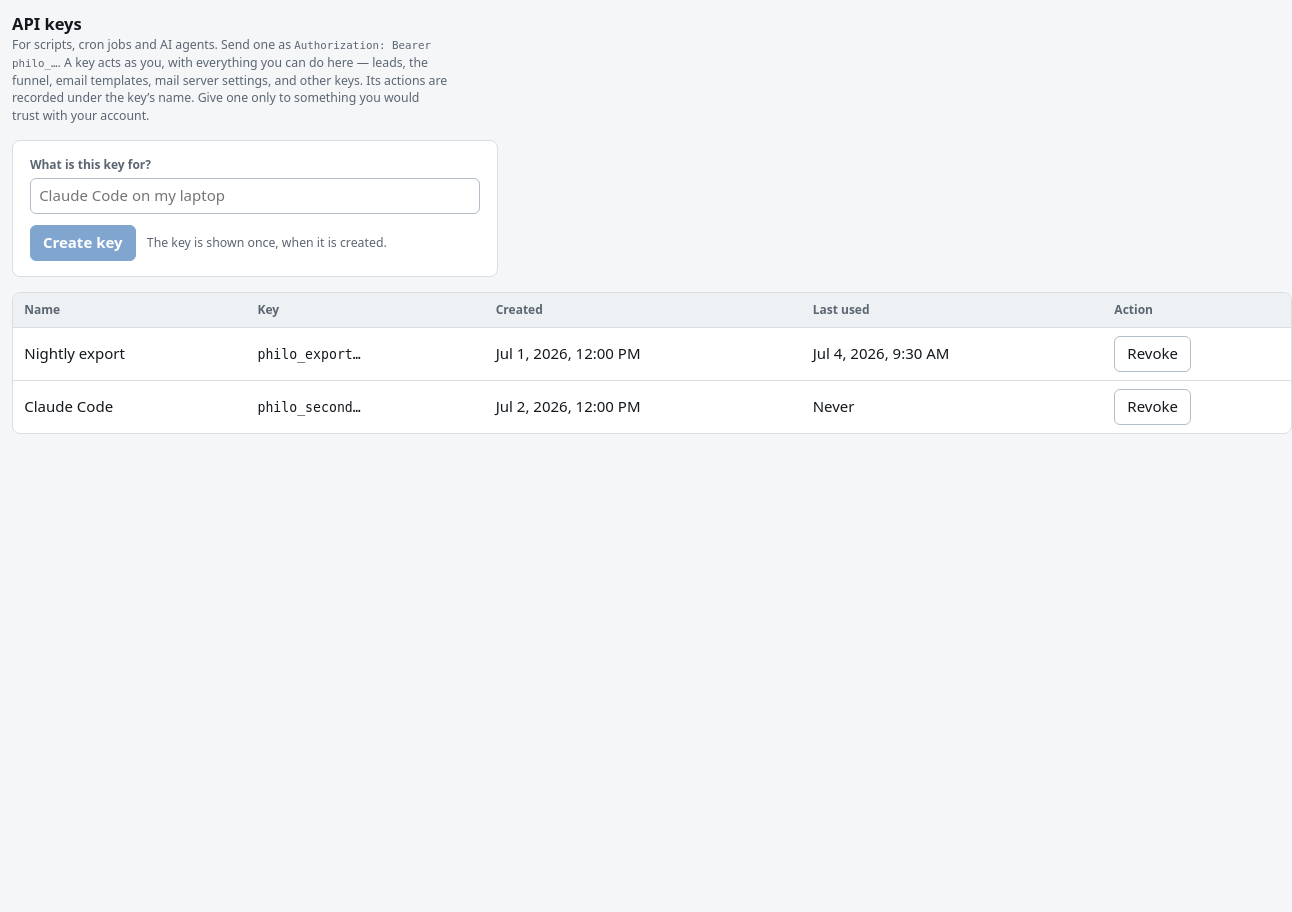
Test: ApiKeys › shows the new key once, and adds it to the list
The width and height of the screenshot is (1292, 912).
Type "Cron job" into the field labelled "What is this key for?" at [255, 196], box x1=30 y1=178 x2=480 y2=214
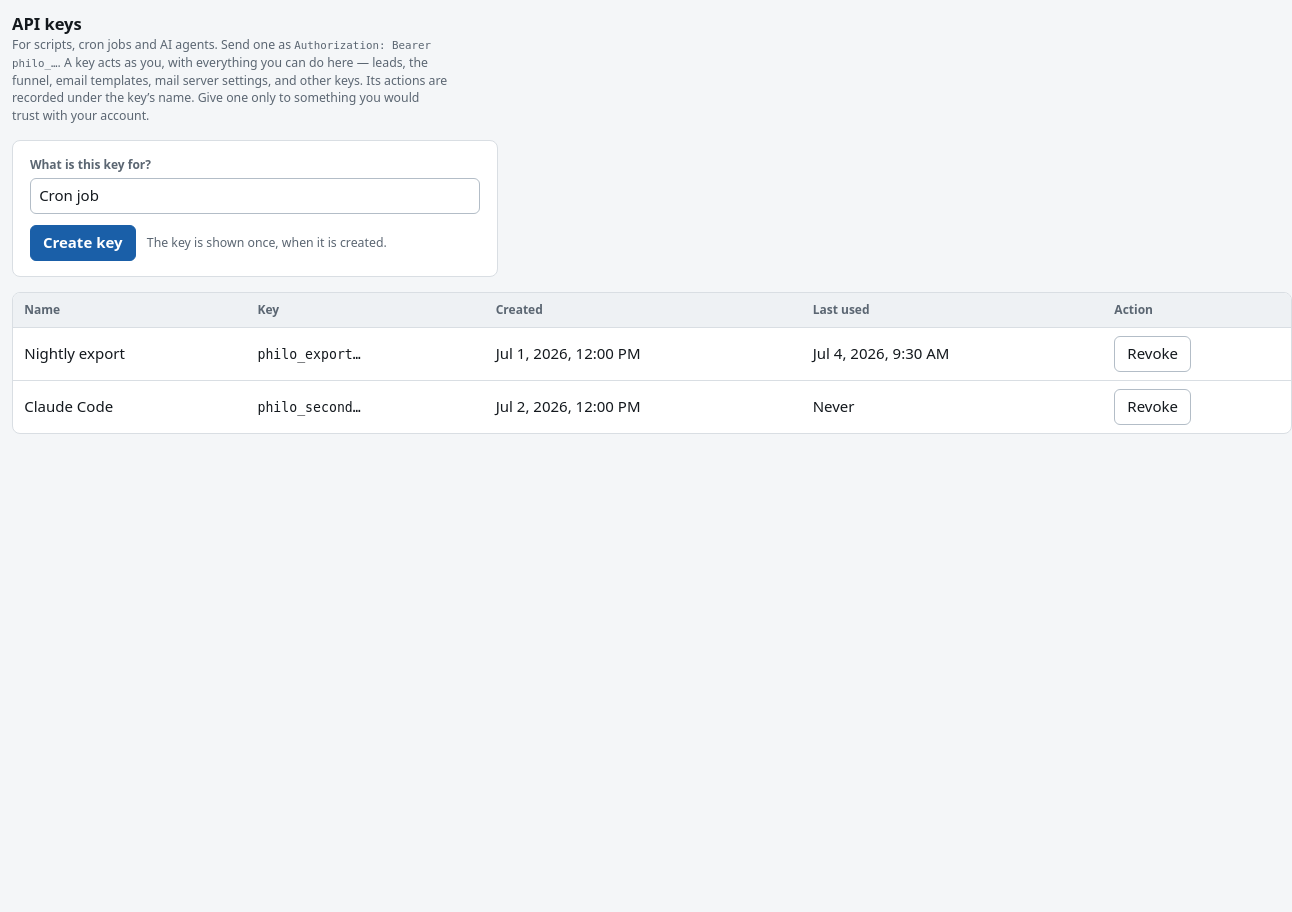
Click the button "Create key" at [83, 243], box x1=30 y1=225 x2=136 y2=261
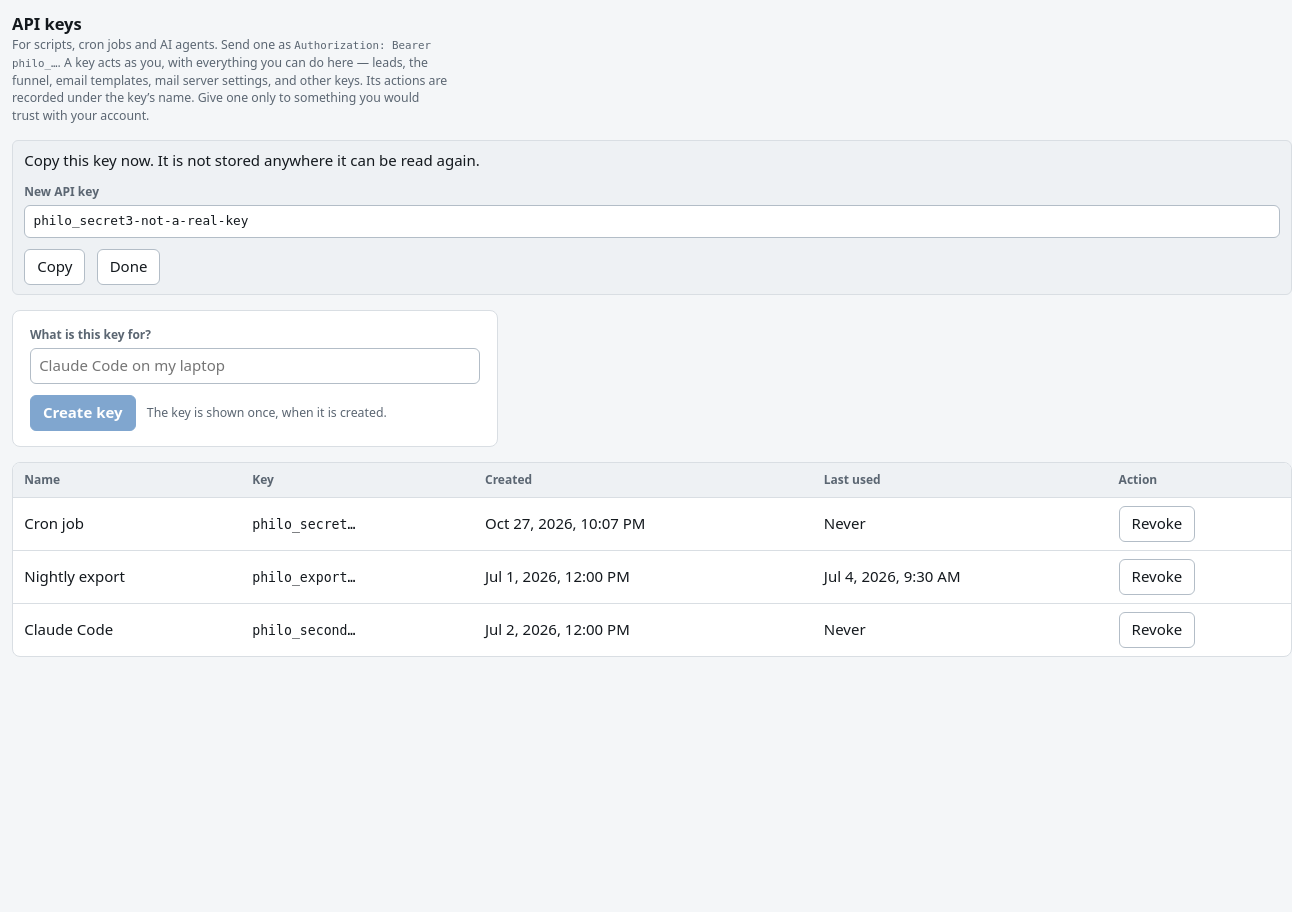
Now the text "Cron job" is shown, box x1=13 y1=497 x2=241 y2=550
Now the field labelled "What is this key for?" is empty, box x1=30 y1=348 x2=480 y2=384
